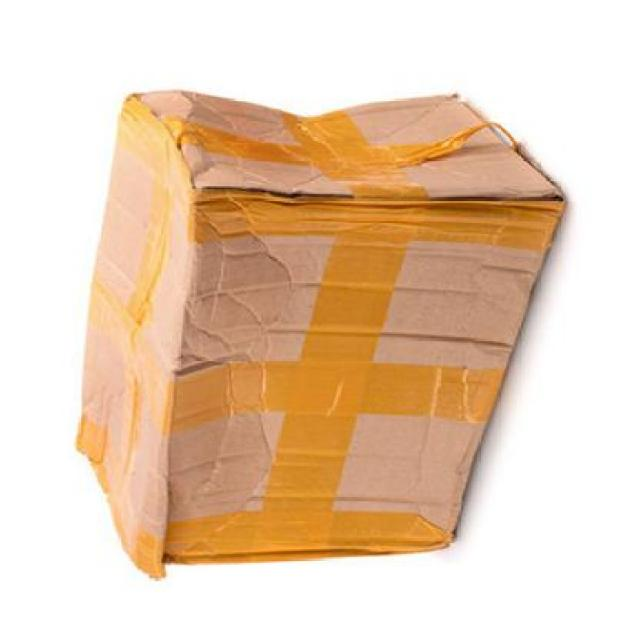defect: (71, 84, 572, 574)
